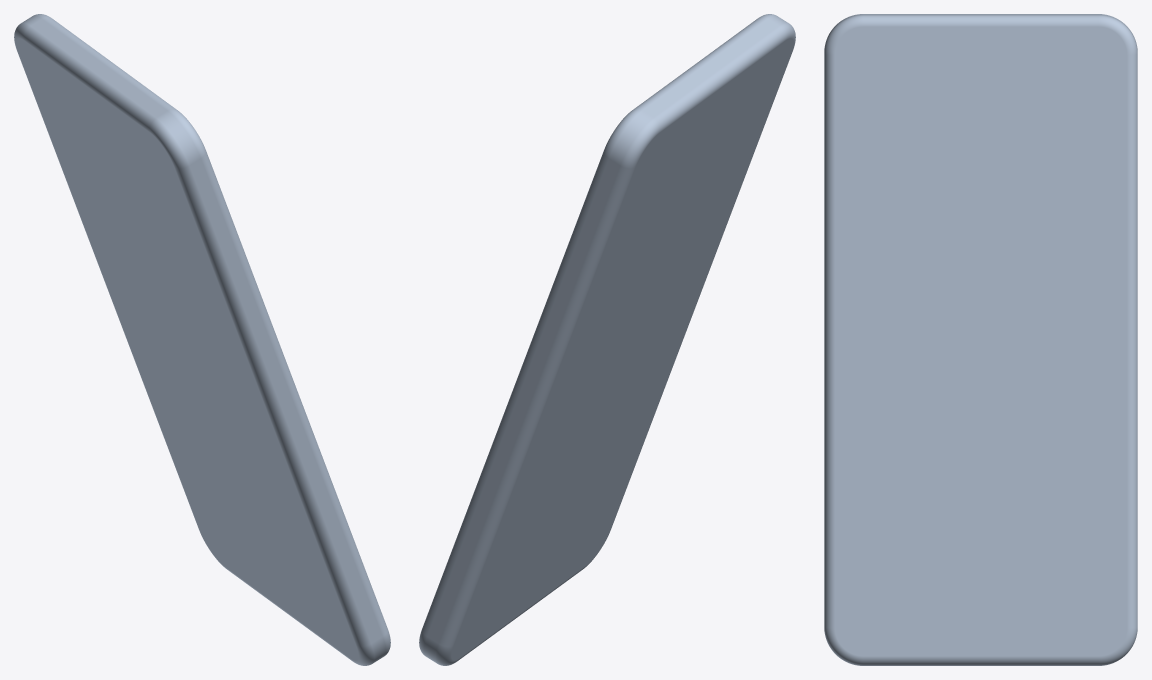
The model's file is phone.glb.
The picture shows the model from 3 angles, left to right: view 1: azimuth 30°, elevation 25°; view 2: azimuth 150°, elevation 25°; view 3: azimuth 270°, elevation 25°; orthographic projection. The views are drawn at different scales.
Parts seen in each view (by area): view 1: phone; view 2: phone; view 3: phone.
Part boxes in pixels (box(x1,y1,x2,y2)): phone: box(14, 14, 390, 665); phone: box(419, 14, 795, 665); phone: box(824, 14, 1137, 665).
Size of the model in its own units: 0.0574 by 0.1423 by 0.072.
